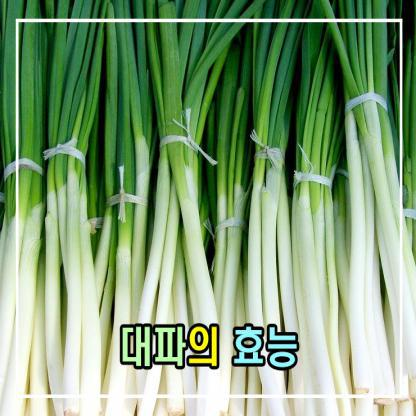green onion: (319, 0, 415, 415), (137, 0, 227, 415), (285, 0, 353, 415), (46, 0, 107, 415), (241, 0, 296, 415), (0, 0, 51, 413), (103, 0, 153, 415), (209, 6, 249, 416)
